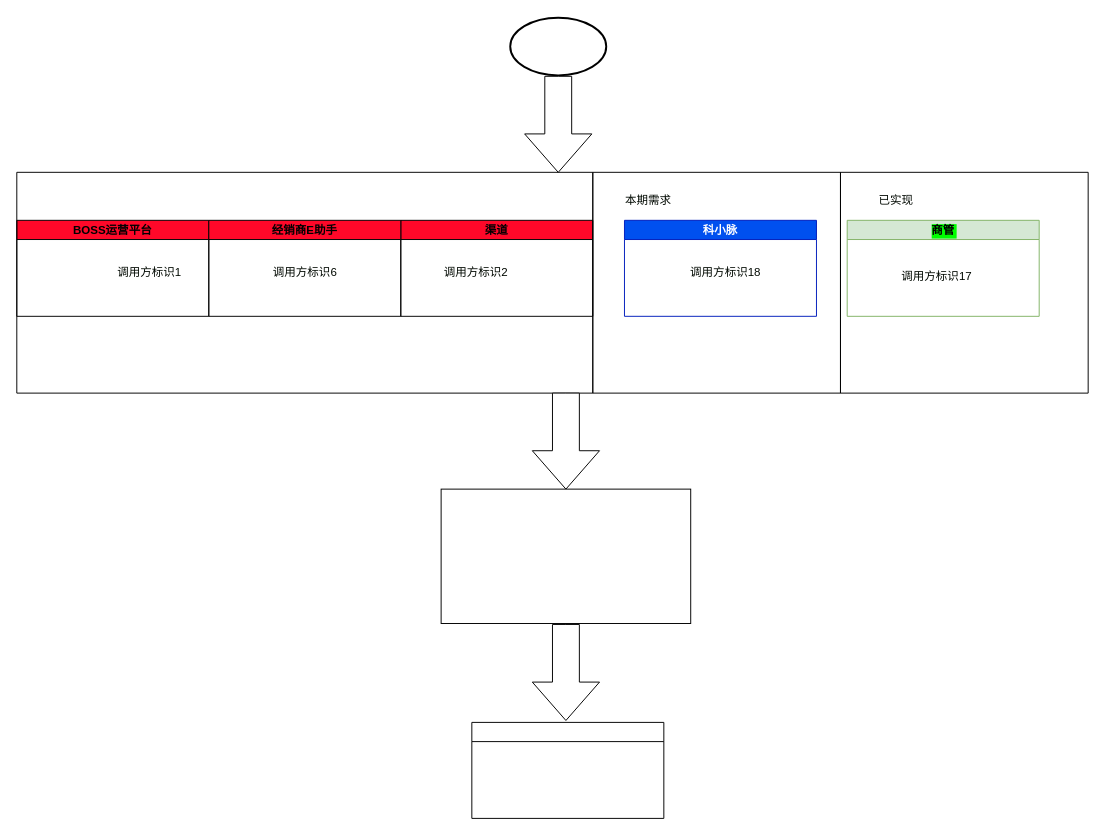
This 1105x835 diagram has some shape labels left out. Here are the shapes that lost their labels. From the top down, the centre of each, then its label:
At point 558,46: "销售订单下单".
At point 304,282: "暂未接入".
At point 565,556: "组装下单数据".
At point 567,769: "应用中心".
